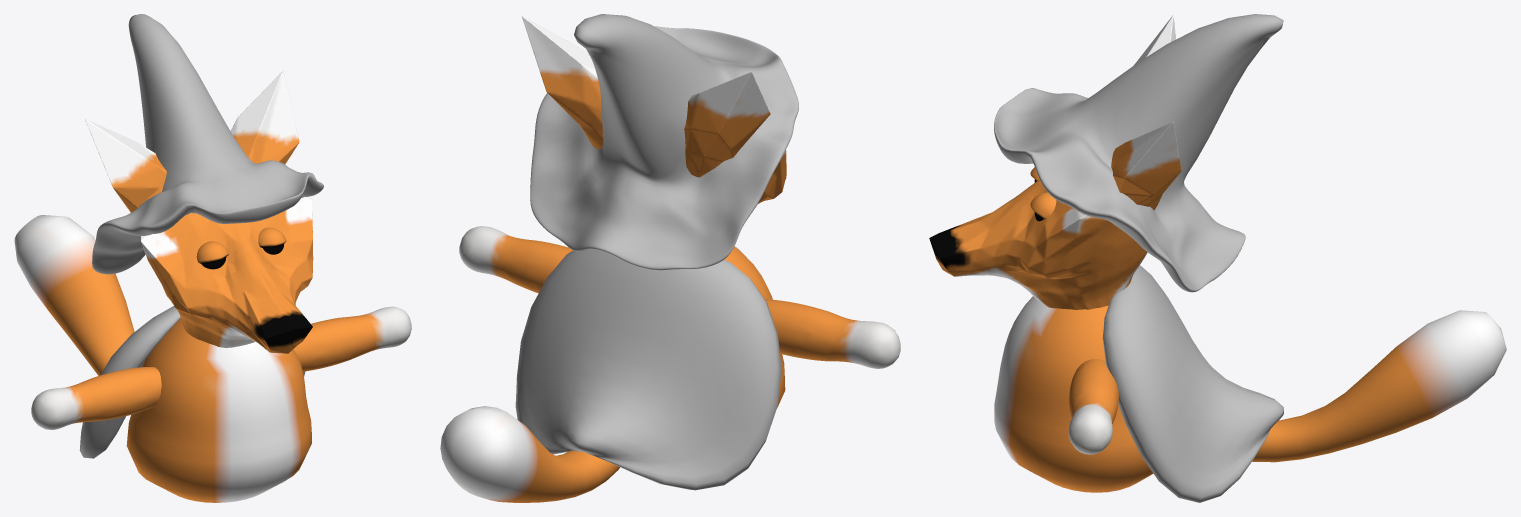
The model's file is Fox Dancing.fbx.
3 views of the same model, side by side, from view 1: azimuth 30°, elevation 25°; view 2: azimuth 150°, elevation 25°; view 3: azimuth 270°, elevation 25° (orthographic). The views are drawn at different scales.
Parts seen in each view (by area): view 1: Sharp Fox Head, Fox Torso, PM3D_Sphere3D1_1, Tox Tail, Recovered_Tool, PM3D_Cube3D1, PM3D_Sphere3D1, PM3D_Sphere3D2; view 2: PM3D_Cube3D1, PM3D_Sphere3D1_1, Sharp Fox Head, Tox Tail, Recovered_Tool, Fox Torso; view 3: PM3D_Sphere3D1_1, PM3D_Cube3D1, Sharp Fox Head, Fox Torso, Tox Tail, Recovered_Tool.
Part boxes in pixels (x1=…): Sharp Fox Head: x1=85, y1=71, x2=313, y2=353; Fox Torso: x1=126, y1=318, x2=311, y2=502; PM3D_Sphere3D1_1: x1=92, y1=14, x2=323, y2=274; Tox Tail: x1=14, y1=215, x2=134, y2=375; Recovered_Tool: x1=31, y1=306, x2=411, y2=429; PM3D_Cube3D1: x1=79, y1=306, x2=305, y2=458; PM3D_Sphere3D1: x1=196, y1=241, x2=228, y2=269; PM3D_Sphere3D2: x1=258, y1=227, x2=286, y2=254; PM3D_Cube3D1: x1=515, y1=249, x2=781, y2=490; PM3D_Sphere3D1_1: x1=530, y1=14, x2=798, y2=270; Sharp Fox Head: x1=522, y1=16, x2=786, y2=203; Tox Tail: x1=440, y1=406, x2=619, y2=502; Recovered_Tool: x1=459, y1=226, x2=900, y2=368; Fox Torso: x1=724, y1=246, x2=785, y2=407; PM3D_Sphere3D1_1: x1=994, y1=14, x2=1283, y2=292; PM3D_Cube3D1: x1=1102, y1=265, x2=1283, y2=502; Sharp Fox Head: x1=929, y1=15, x2=1181, y2=309; Fox Torso: x1=994, y1=296, x2=1153, y2=492; Tox Tail: x1=1252, y1=310, x2=1506, y2=462; Recovered_Tool: x1=1068, y1=359, x2=1118, y2=454.
Bounding box in the file's own units: 475 × 505 × 573.
